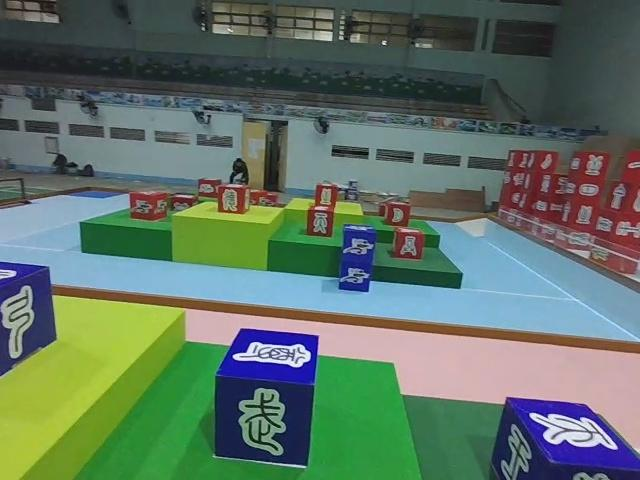R2 Fake Blue: (213, 329, 320, 466), (492, 395, 640, 480), (0, 258, 60, 380)
